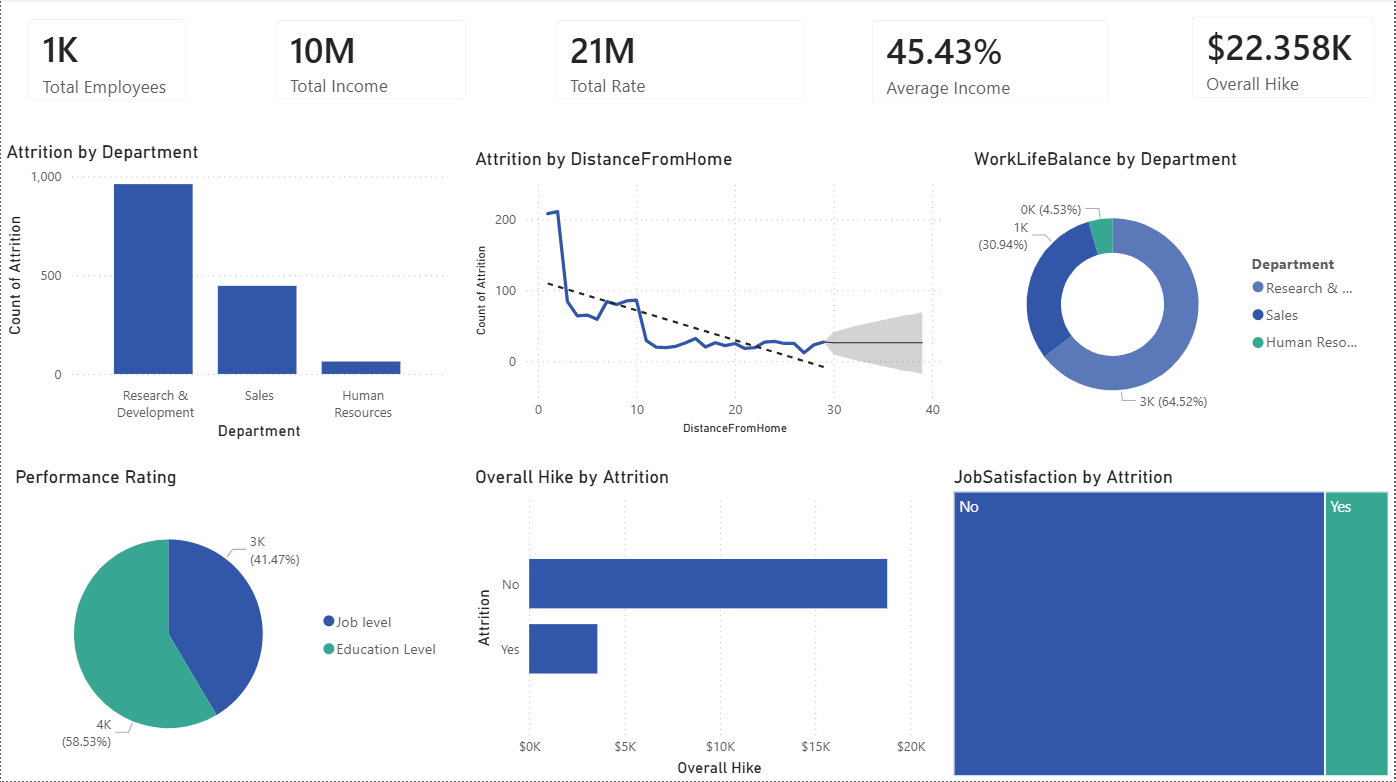

What the dashboard file says about the page in this screenshot:
{"tool":"powerbi","page":{"name":"Dashboard","canvas":[1280,720],"ordinal":1},"visuals":[{"type":"lineChart","title":"Attrition by DistanceFromHome","fields":{"Y":["CountNonNull(WA_Fn-UseC_-HR-Employee-Attriti.Attrition)"],"Category":["WA_Fn-UseC_-HR-Employee-Attriti.DistanceFromHome"]},"box":[430.3,137.3,440.2,268.5],"z":0},{"type":"clusteredColumnChart","title":"Attrition by Department","fields":{"Category":["WA_Fn-UseC_-HR-Employee-Attriti.Department"],"Y":["CountNonNull(WA_Fn-UseC_-HR-Employee-Attriti.Attrition)"]},"box":[0,131.2,414.4,279.5],"z":1000},{"type":"pieChart","title":"Performance Rating","fields":{"Y":["Sum(WA_Fn-UseC_-HR-Employee-Attriti.JobLevel)","Sum(WA_Fn-UseC_-HR-Employee-Attriti.Education)"]},"box":[8.6,429.1,405.8,290.6],"z":2000},{"type":"clusteredBarChart","fields":{"Category":["WA_Fn-UseC_-HR-Employee-Attriti.Attrition"],"Y":["WA_Fn-UseC_-HR-Employee-Attriti.Overall Hike"]},"box":[430.3,429.1,424.2,290.6],"z":3000},{"type":"donutChart","fields":{"Category":["WA_Fn-UseC_-HR-Employee-Attriti.Department"],"Y":["Sum(WA_Fn-UseC_-HR-Employee-Attriti.WorkLifeBalance)"]},"box":[888.9,137.3,375.2,268.5],"z":4000},{"type":"treemap","title":"JobSatisfaction by Attrition","fields":{"Group":["WA_Fn-UseC_-HR-Employee-Attriti.Attrition"],"Values":["Sum(WA_Fn-UseC_-HR-Employee-Attriti.JobSatisfaction)"]},"box":[870.5,429.1,409.5,290.6],"z":5000},{"type":"cardVisual","fields":{"Data":["WA_Fn-UseC_-HR-Employee-Attriti.Total Employees"]},"box":[8.6,2.5,179,109.1],"z":5001},{"type":"cardVisual","fields":{"Data":["WA_Fn-UseC_-HR-Employee-Attriti.Average Income"]},"box":[783.4,3.7,252.6,110.3],"z":5002},{"type":"cardVisual","fields":{"Data":["WA_Fn-UseC_-HR-Employee-Attriti.Overall Hike"]},"box":[1077.7,0,202.3,109.1],"z":5003},{"type":"cardVisual","fields":{"Data":["WA_Fn-UseC_-HR-Employee-Attriti.Total Income"]},"box":[235.4,3.7,209.7,107.9],"z":5005},{"type":"cardVisual","fields":{"Data":["WA_Fn-UseC_-HR-Employee-Attriti.Total Rate"]},"box":[492.9,3.7,263.6,107.9],"z":5006}]}

Visuals, with their boxes in screenshot pixels (x1, y1, x2, y2), scaled from the page's 1280x720 canvas onto the 1396x782 screenshot:
"Attrition by DistanceFromHome" lineChart: region(469, 149, 949, 441)
"Attrition by Department" clusteredColumnChart: region(0, 142, 452, 446)
"Performance Rating" pieChart: region(9, 466, 452, 781)
clusteredBarChart - WA_Fn-UseC_-HR-Employee-Attriti.Attrition x WA_Fn-UseC_-HR-Employee-Attriti.Overall Hike: region(469, 466, 932, 781)
donutChart - WA_Fn-UseC_-HR-Employee-Attriti.Department x Sum(WA_Fn-UseC_-HR-Employee-Attriti.WorkLifeBalance): region(969, 149, 1379, 441)
"JobSatisfaction by Attrition" treemap: region(949, 466, 1395, 781)
cardVisual - WA_Fn-UseC_-HR-Employee-Attriti.Total Employees: region(9, 3, 205, 121)
cardVisual - WA_Fn-UseC_-HR-Employee-Attriti.Average Income: region(854, 4, 1130, 124)
cardVisual - WA_Fn-UseC_-HR-Employee-Attriti.Overall Hike: region(1175, 0, 1395, 118)
cardVisual - WA_Fn-UseC_-HR-Employee-Attriti.Total Income: region(257, 4, 485, 121)
cardVisual - WA_Fn-UseC_-HR-Employee-Attriti.Total Rate: region(538, 4, 825, 121)
